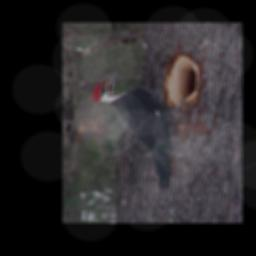Woodpecker: (91, 71, 192, 190)
